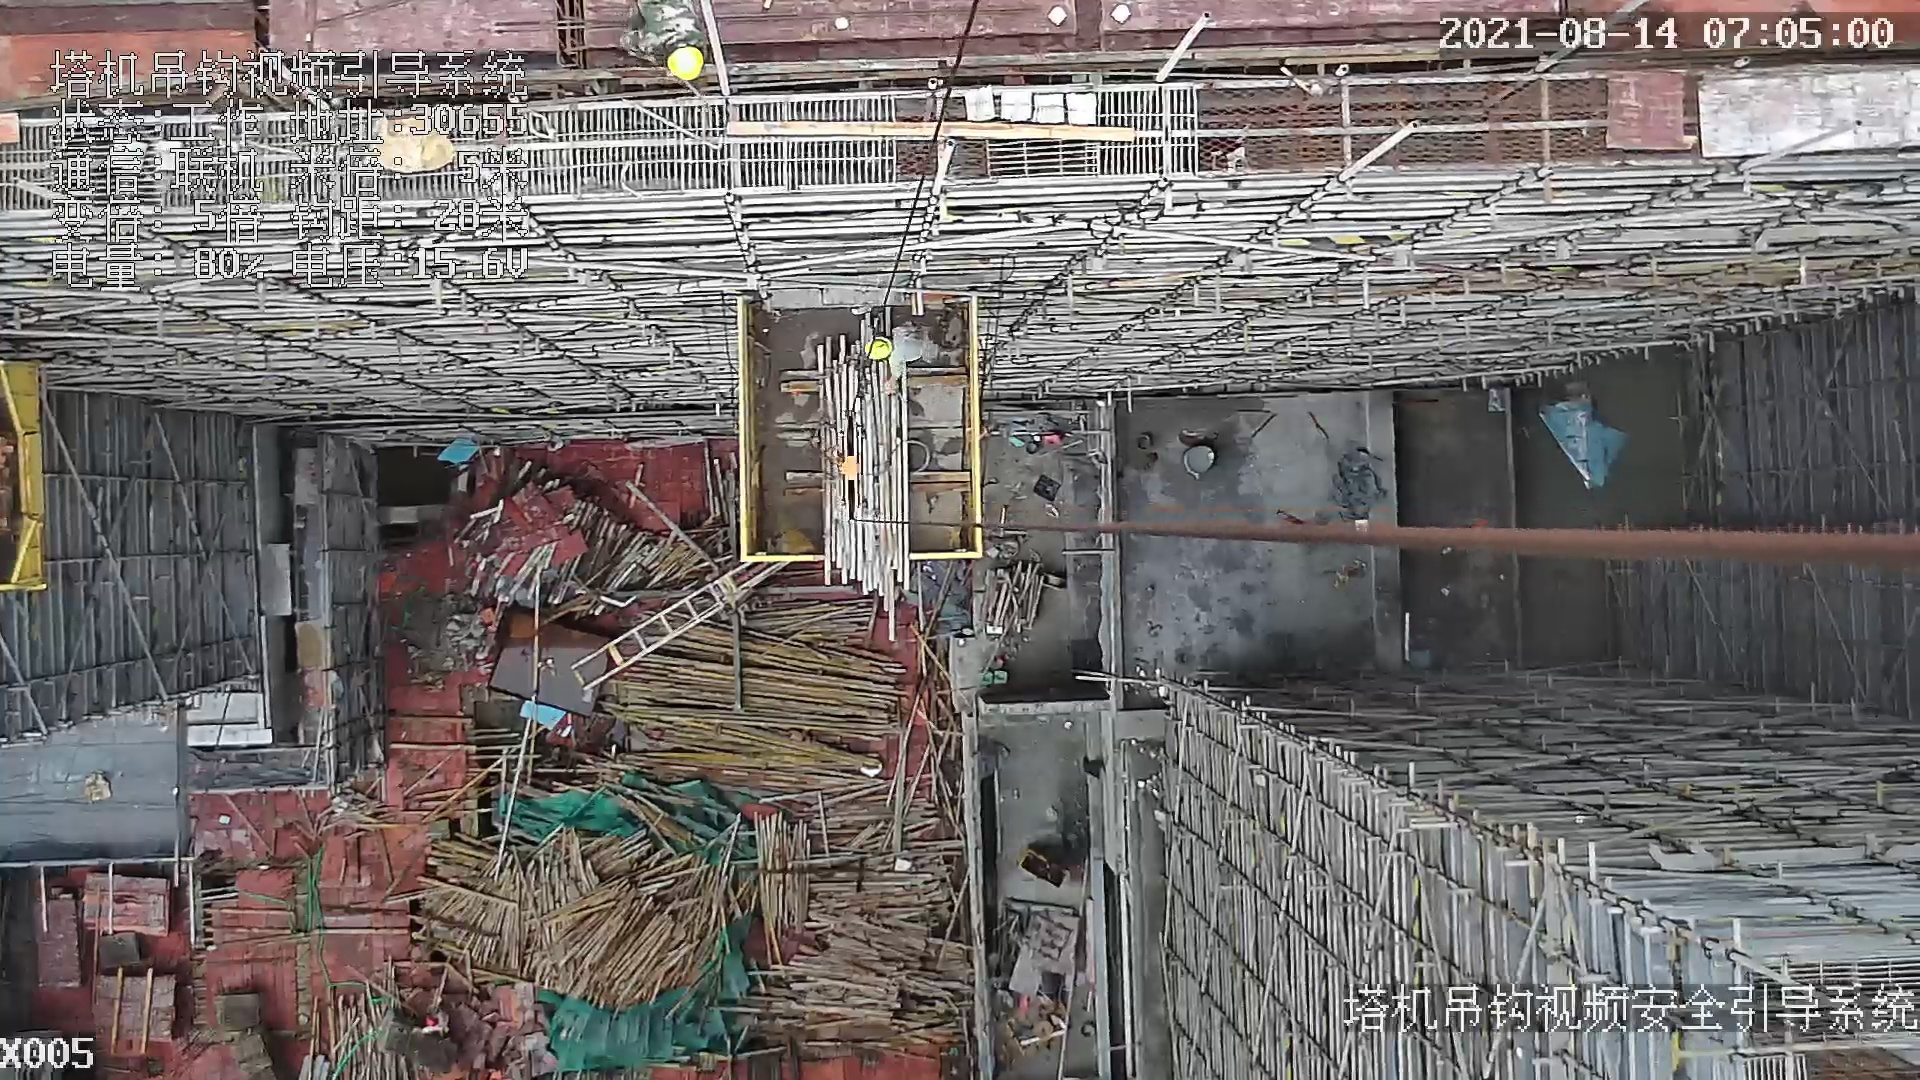helmet: (667, 44, 704, 81), (865, 335, 893, 360)
hook: (826, 409, 865, 514)
person: (626, 3, 726, 92), (870, 327, 933, 372)
